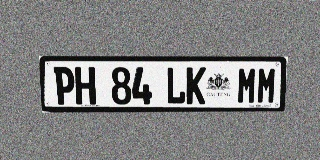4: (132, 67, 152, 104)
8: (111, 67, 131, 104)
H: (75, 67, 96, 105)
K: (186, 67, 206, 104)
L: (166, 67, 186, 104)
M: (256, 67, 277, 104), (237, 67, 257, 104)
P: (53, 67, 75, 105)
